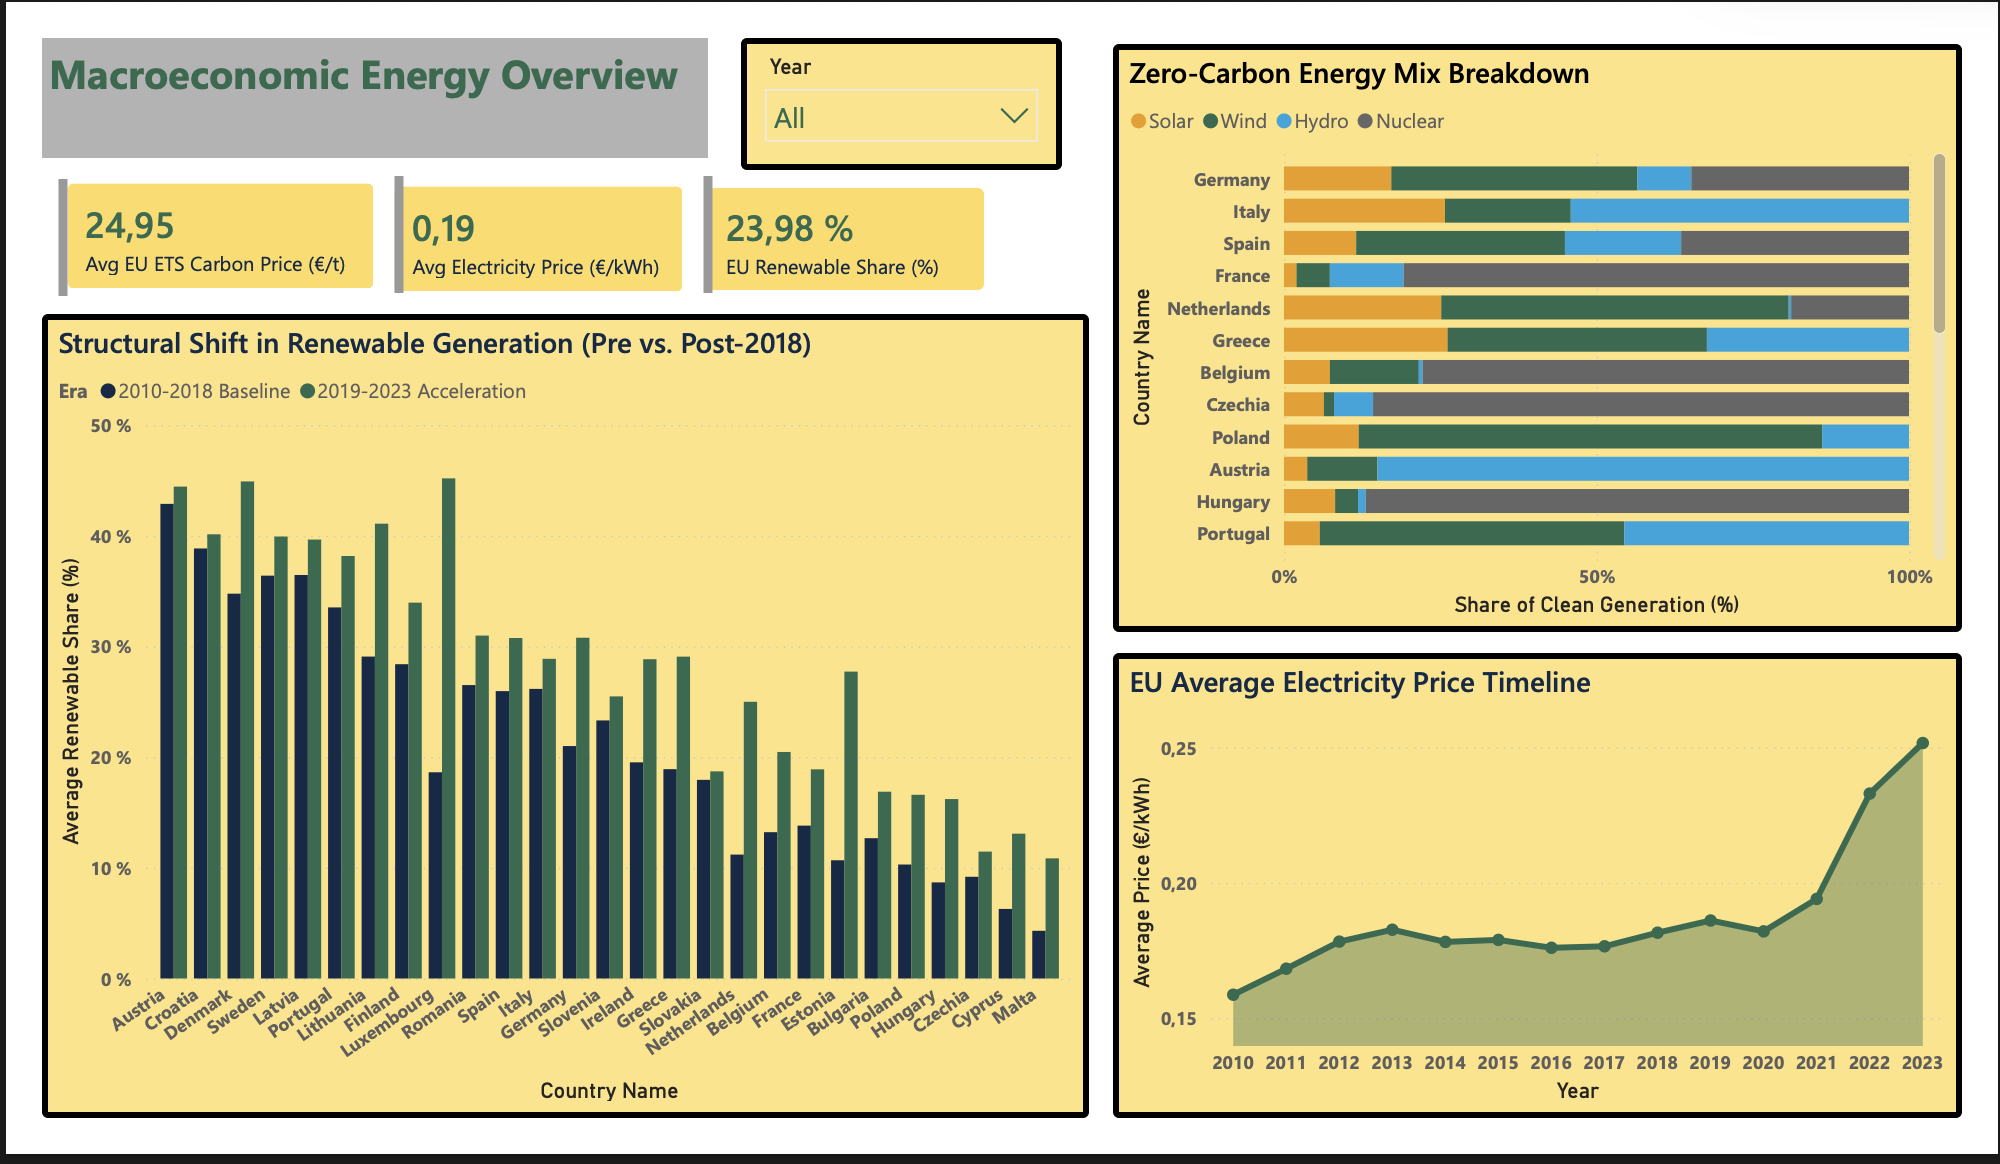

Layout of this report page (visuals, bound fields, positions):
{"tool":"powerbi","page":{"name":"Macro Overview","canvas":[1280,720],"ordinal":0},"visuals":[{"type":"textbox","box":[0,0,444,80],"z":0},{"type":"cardVisual","fields":{"Data":["master_panel_data.Renewable Share %"]},"box":[432,88,208,92],"z":1000},{"type":"cardVisual","fields":{"Data":["Avg(master_panel_data.elec_price_eur_kwh)"]},"box":[218,82,226,104],"z":2000},{"type":"cardVisual","fields":{"Data":["Avg(master_panel_data.carbon_price_eur_tonne)"]},"box":[0,80,238,104],"z":3000},{"type":"slicer","fields":{"Values":["master_panel_data.year"]},"box":[466,0,214,88],"z":5000},{"type":"shape","box":[98,92,280,78],"z":6000},{"type":"shape","box":[304,92,280,78],"z":8000},{"type":"shape","box":[0,94,28,78],"z":9000},{"type":"lineChart","title":"EU Average Electricity Price Timeline","fields":{"Category":["master_panel_data.year"],"Y":["Avg(master_panel_data.elec_price_eur_kwh)"]},"box":[714,410,566,310],"z":10000},{"type":"clusteredColumnChart","title":"Structural Shift in Renewable Generation (Pre vs. Post-2018)","fields":{"Category":["master_panel_data.country_name"],"Y":["master_panel_data.Renewable Share %"],"Series":["master_panel_data.Era"]},"box":[0,184,698,536],"z":10001},{"type":"hundredPercentStackedBarChart","title":"Zero-Carbon Energy Mix Breakdown","fields":{"Category":["master_panel_data.country_name"],"Y":["Sum(master_panel_data.elec_gen_solar_twh)","Sum(master_panel_data.elec_gen_wind_twh)","Sum(master_panel_data.elec_gen_hydro_twh)","Sum(master_panel_data.elec_gen_nuclear_twh)"]},"box":[714,4,566,392],"z":10002}]}

Visuals, with their boxes on the page's 1280x720 design canvas (x1, y1, x2, y2). These are canvas units, not pixel positions in the 2000x1164 screenshot, which may show the page scaled, cropped or inside an application window:
textbox: crop(0, 0, 444, 80)
cardVisual - master_panel_data.Renewable Share %: crop(432, 88, 640, 180)
cardVisual - Avg(master_panel_data.elec_price_eur_kwh): crop(218, 82, 444, 186)
cardVisual - Avg(master_panel_data.carbon_price_eur_tonne): crop(0, 80, 238, 184)
slicer - master_panel_data.year: crop(466, 0, 680, 88)
shape: crop(98, 92, 378, 170)
shape: crop(304, 92, 584, 170)
shape: crop(0, 94, 28, 172)
"EU Average Electricity Price Timeline" lineChart: crop(714, 410, 1280, 720)
"Structural Shift in Renewable Generation (Pre vs. Post-2018)" clusteredColumnChart: crop(0, 184, 698, 720)
"Zero-Carbon Energy Mix Breakdown" hundredPercentStackedBarChart: crop(714, 4, 1280, 396)
